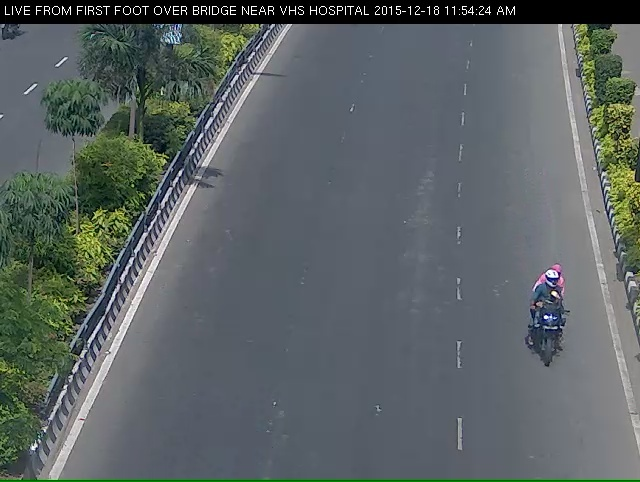Person: (522, 281, 584, 390)
